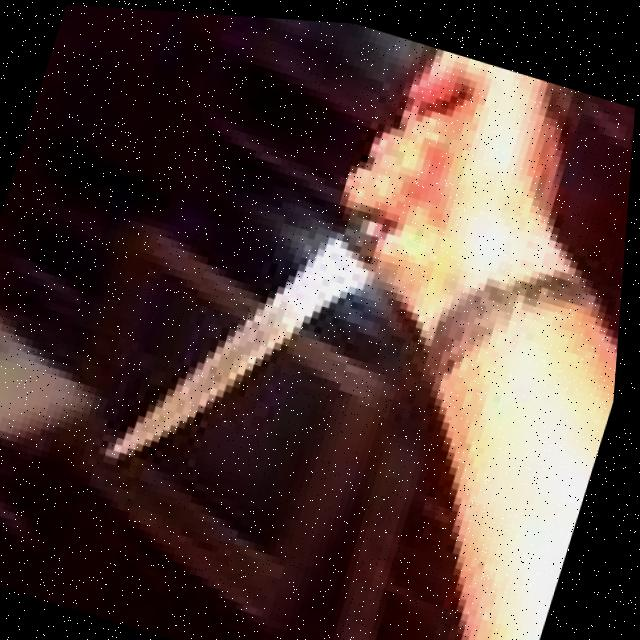knife: (100, 181, 381, 521)
